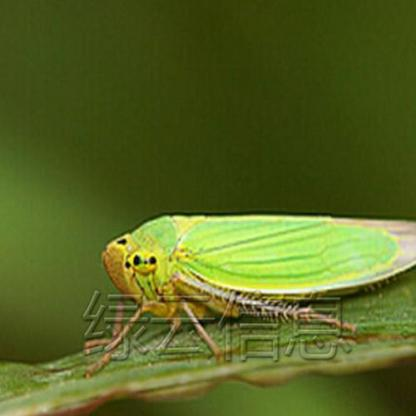Green-Leafhopper: (100, 209, 416, 365)
